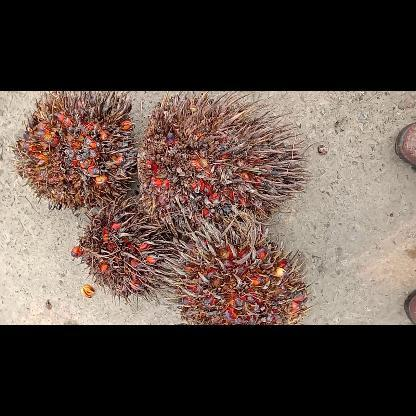Terlalu masak: (132, 90, 315, 233), (156, 204, 314, 324), (11, 90, 139, 212), (72, 190, 188, 310)
